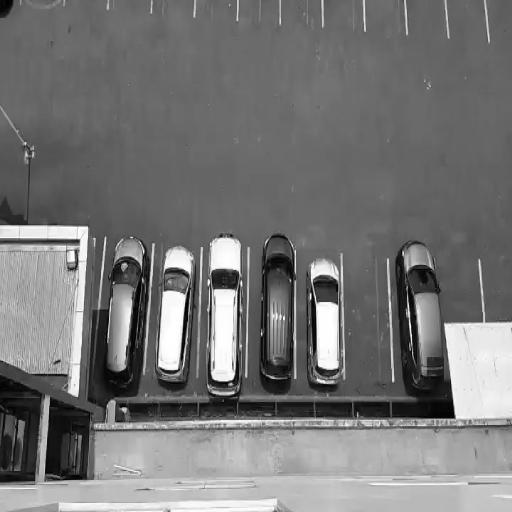Car: (395, 238, 447, 403), (206, 234, 246, 403), (104, 237, 146, 395), (153, 248, 198, 389), (262, 236, 298, 392), (305, 258, 343, 392)
Space Available: (342, 252, 394, 393), (437, 253, 485, 326), (479, 257, 512, 322), (444, 0, 490, 45), (406, 2, 448, 44), (323, 4, 366, 45), (364, 3, 409, 42), (238, 1, 281, 36), (279, 0, 323, 32), (153, 0, 197, 28), (197, 2, 238, 27), (109, 3, 154, 23), (17, 0, 65, 15), (65, 2, 109, 16)
